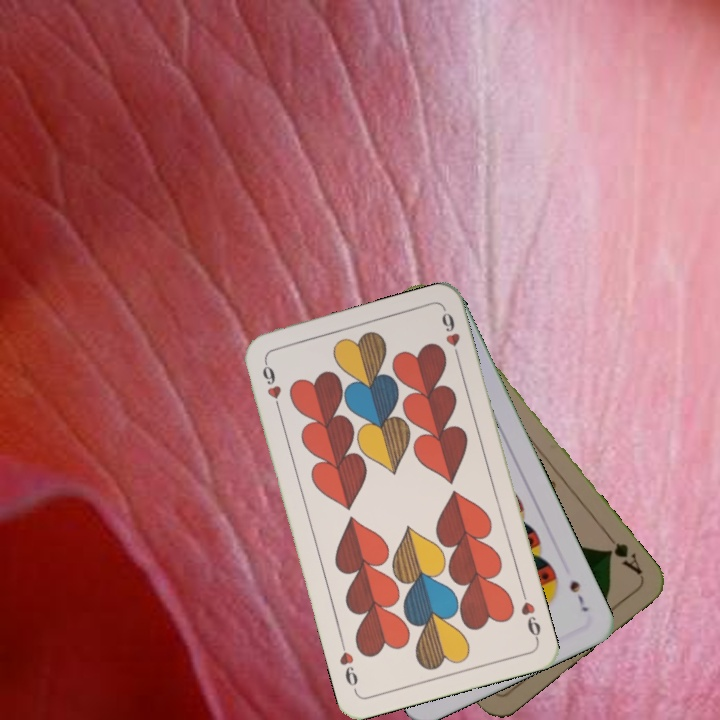GA: (601, 529, 645, 578)
H9: (517, 586, 543, 644), (258, 356, 284, 414)
S7: (565, 576, 592, 615)
